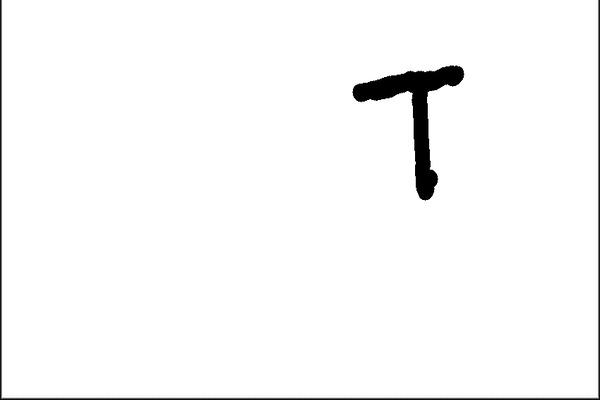T: (340, 60, 487, 196)
